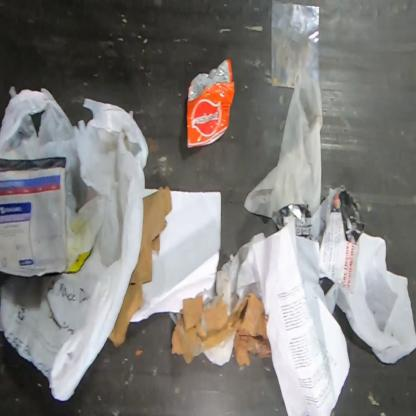cardboard: (109, 186, 173, 349), (171, 292, 272, 366)
rigid_plastic: (270, 2, 322, 90)
soft_plastic: (0, 84, 150, 403), (0, 158, 67, 277), (186, 59, 235, 149)
